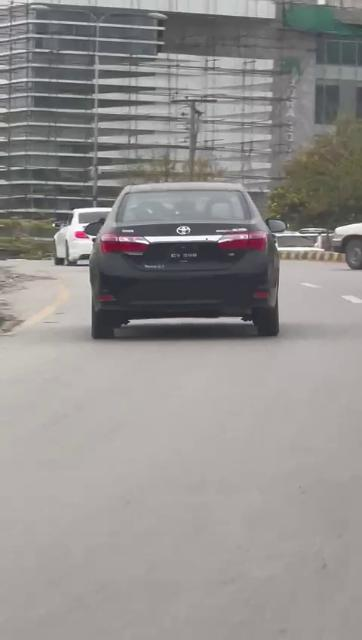plate: (163, 248, 202, 263)
